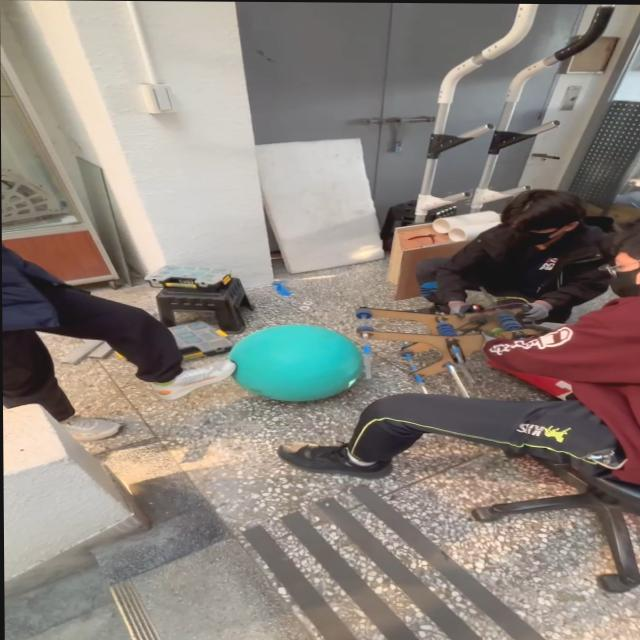ALGAE: (226, 323, 364, 404)
